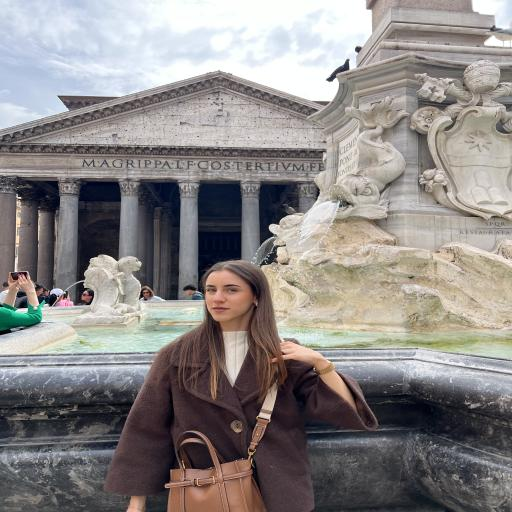masa: (202, 270, 256, 323)
